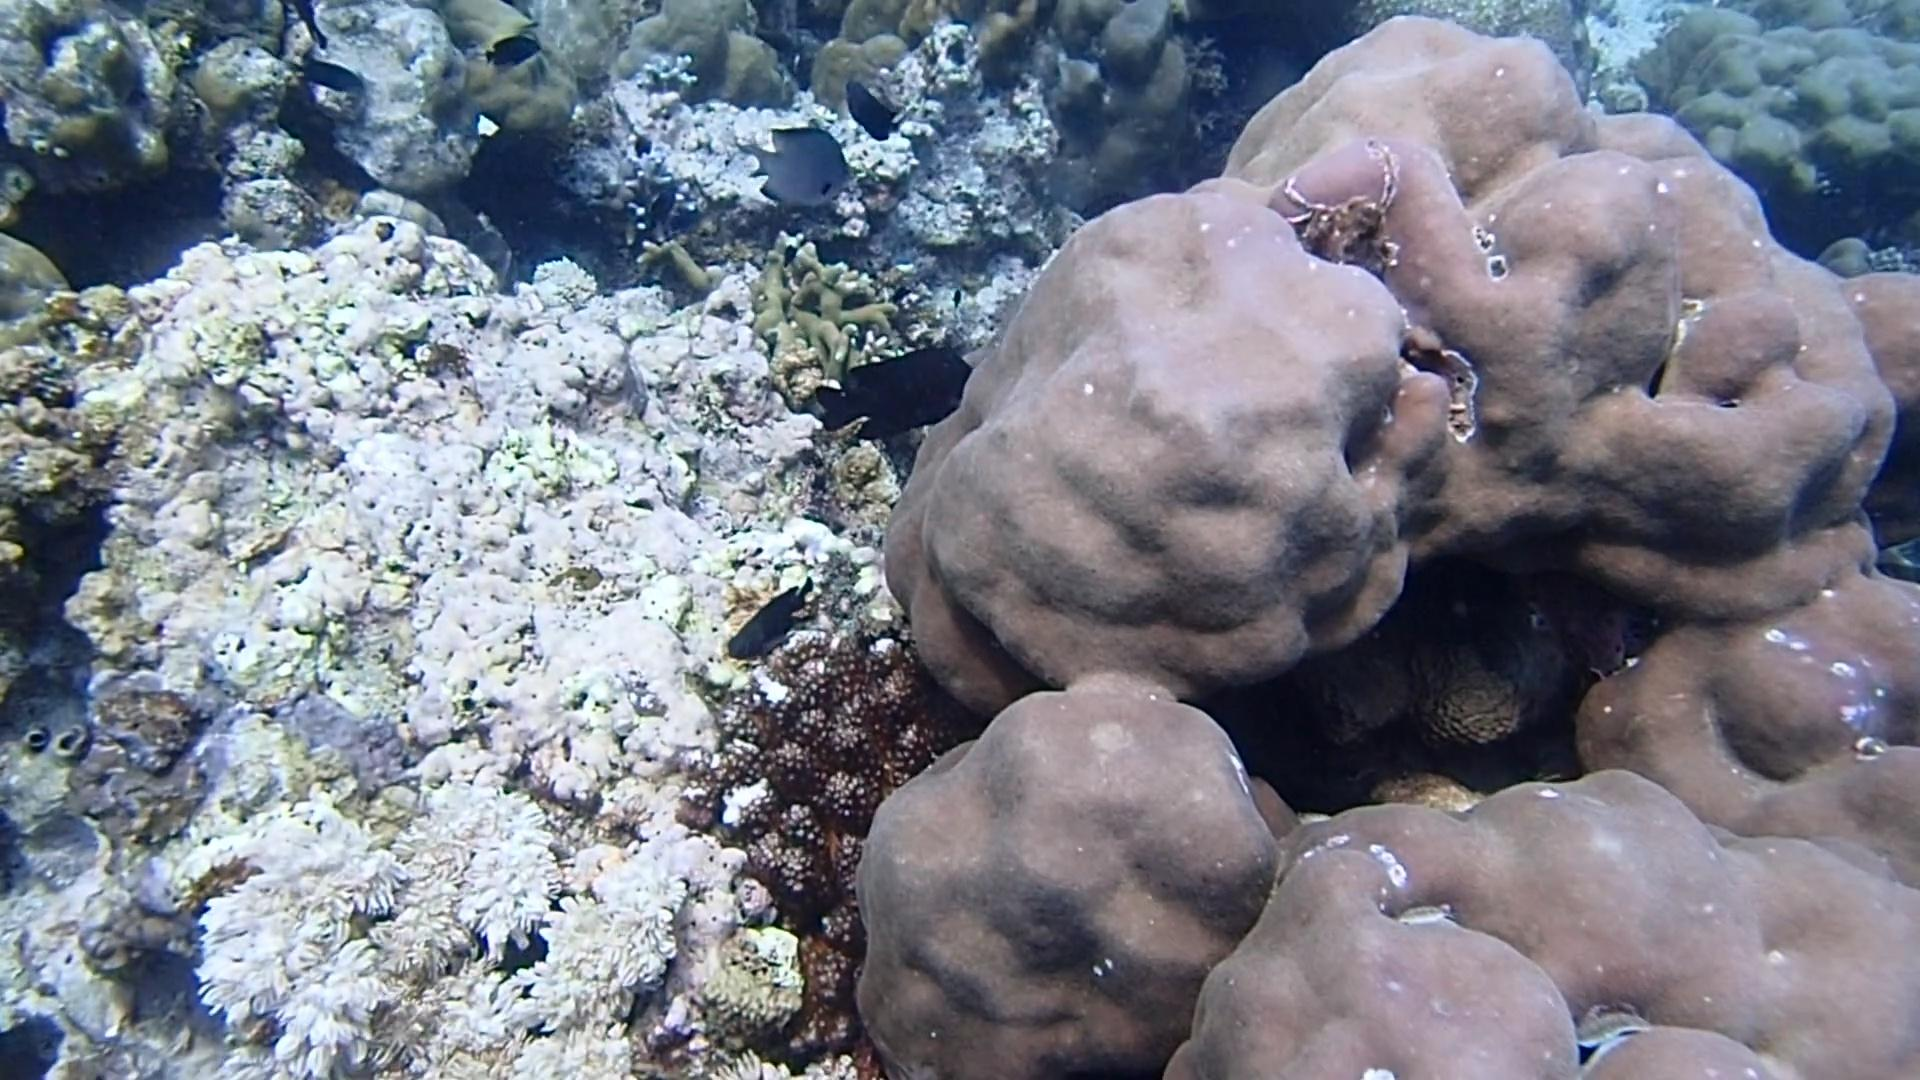Dark Fish: (800, 338, 989, 447), (719, 572, 812, 671), (282, 46, 367, 105), (836, 66, 899, 144), (476, 24, 549, 76)
Light Fish - Dark Fin: (740, 115, 857, 222)
